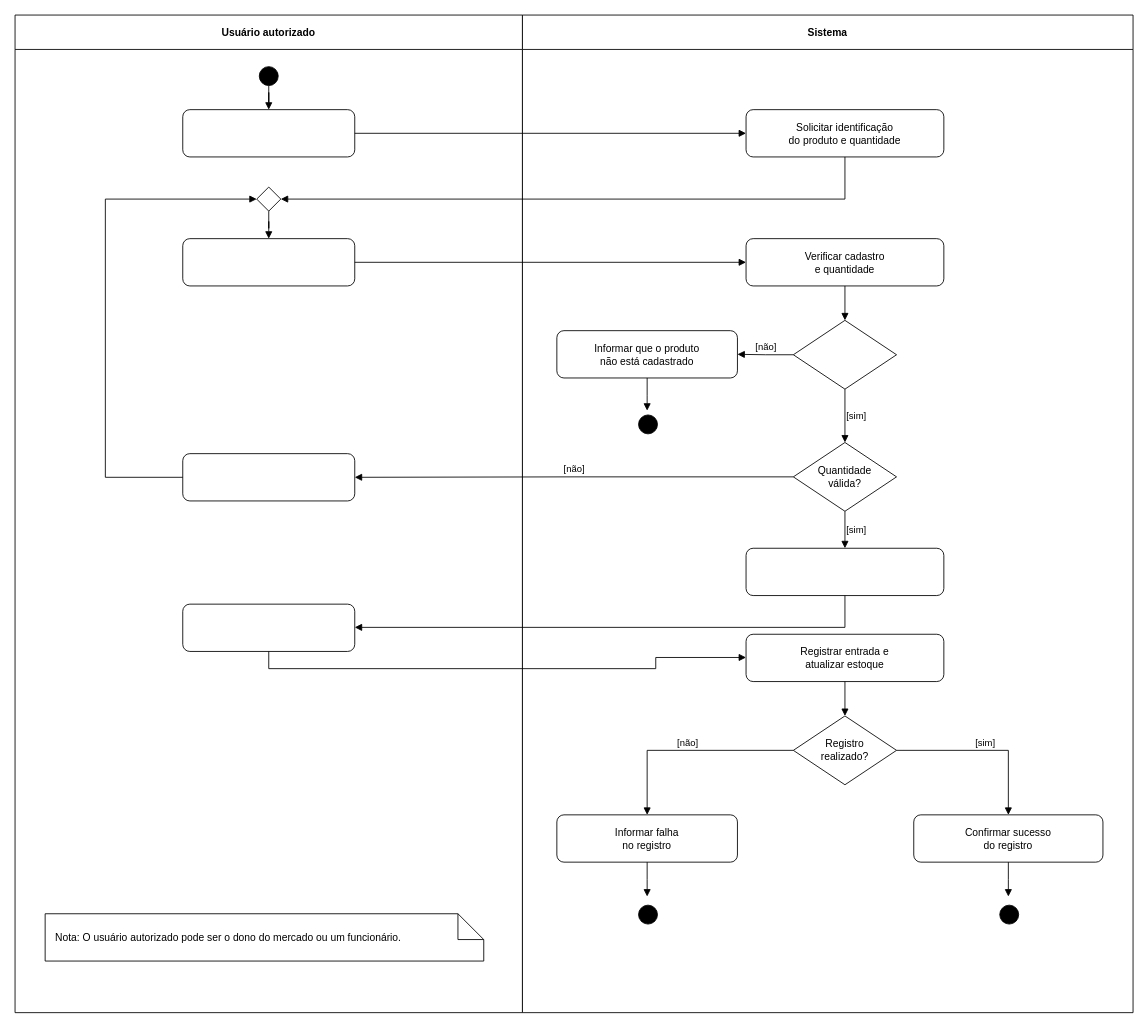
Image size: 1148x1028. Some labels were removed from this diagram. The shapes that lost their labels are listed below. From the top down, each one's centre as x and y in pixels, then its label:
At point 268,133: "Solicitar registro de entrada".
At point 268,262: "Informar dados do produto".
At point 844,354: "Produto cadastrado?".
At point 268,477: "Corrigir quantidade".
At point 844,571: "Apresentar dados para conferência".
At point 268,627: "Confirmar entrada".
